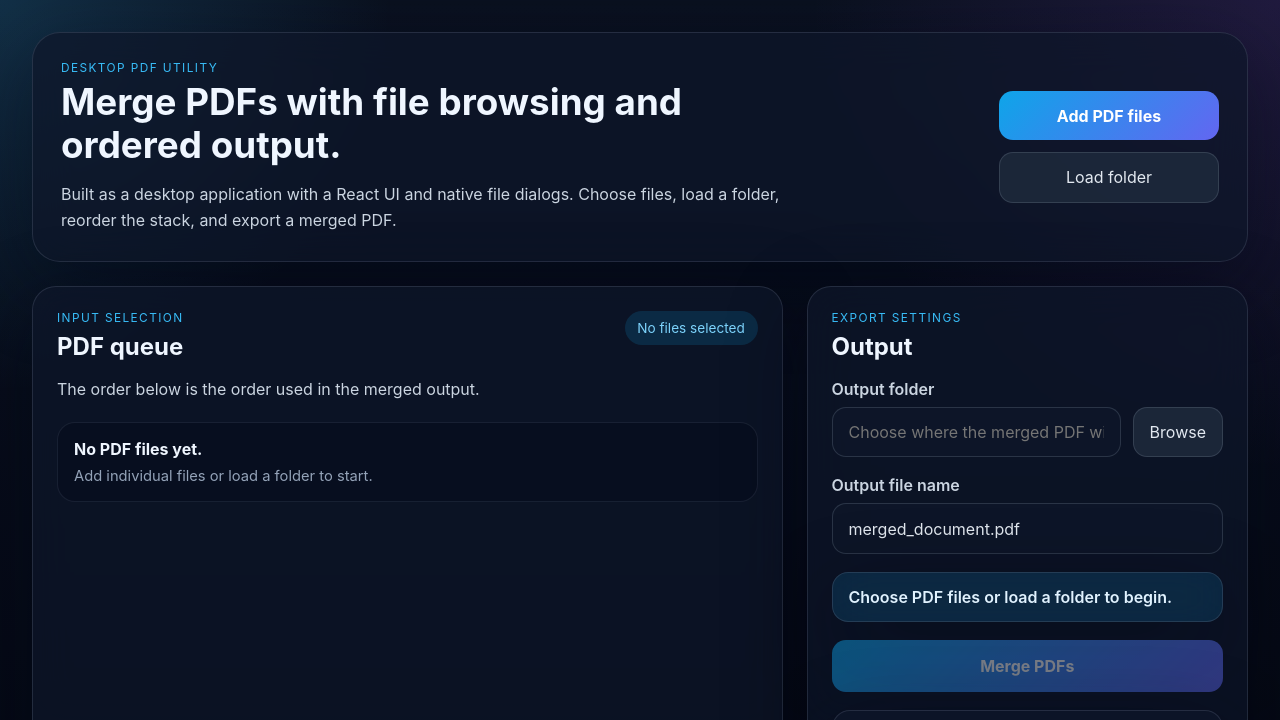
Scenario: App › merges the queued files and shows the success message
Click the button "Add PDF files" at (1109, 116), box [999,91,1219,140]
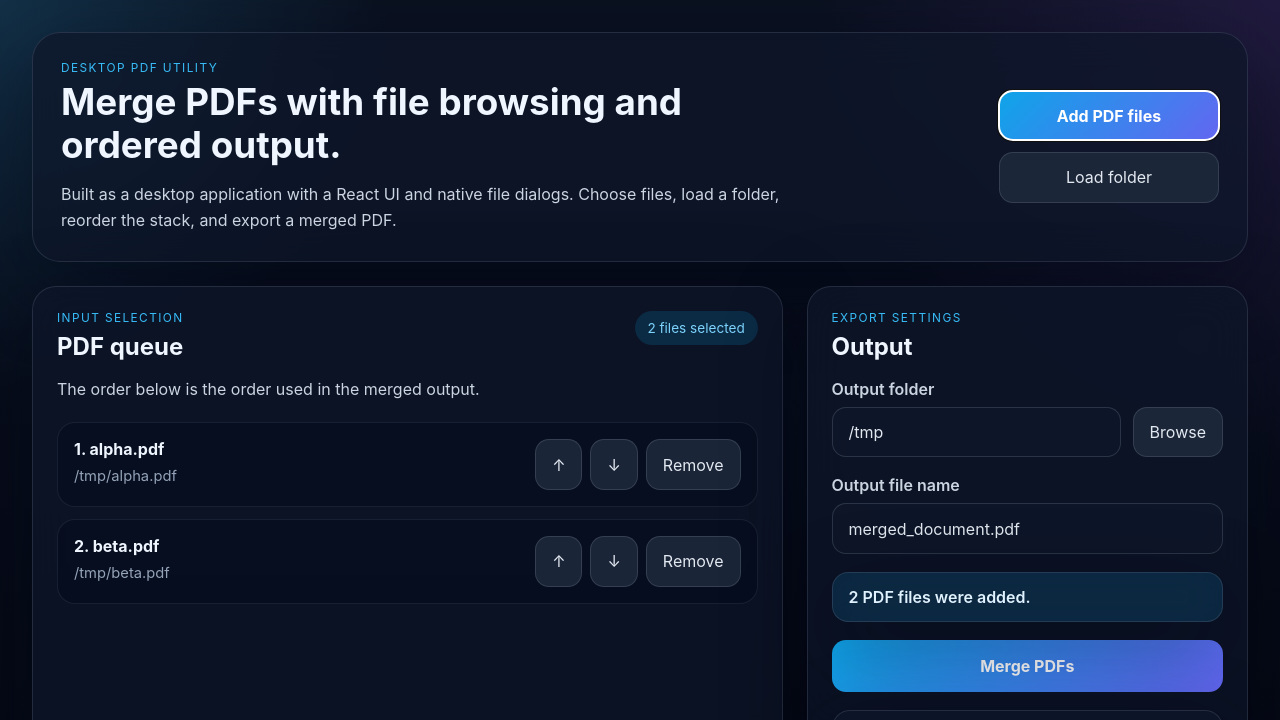
Type "final-report.pdf" into the field labelled "Output file name" at (1027, 529), box [832,503,1223,554]
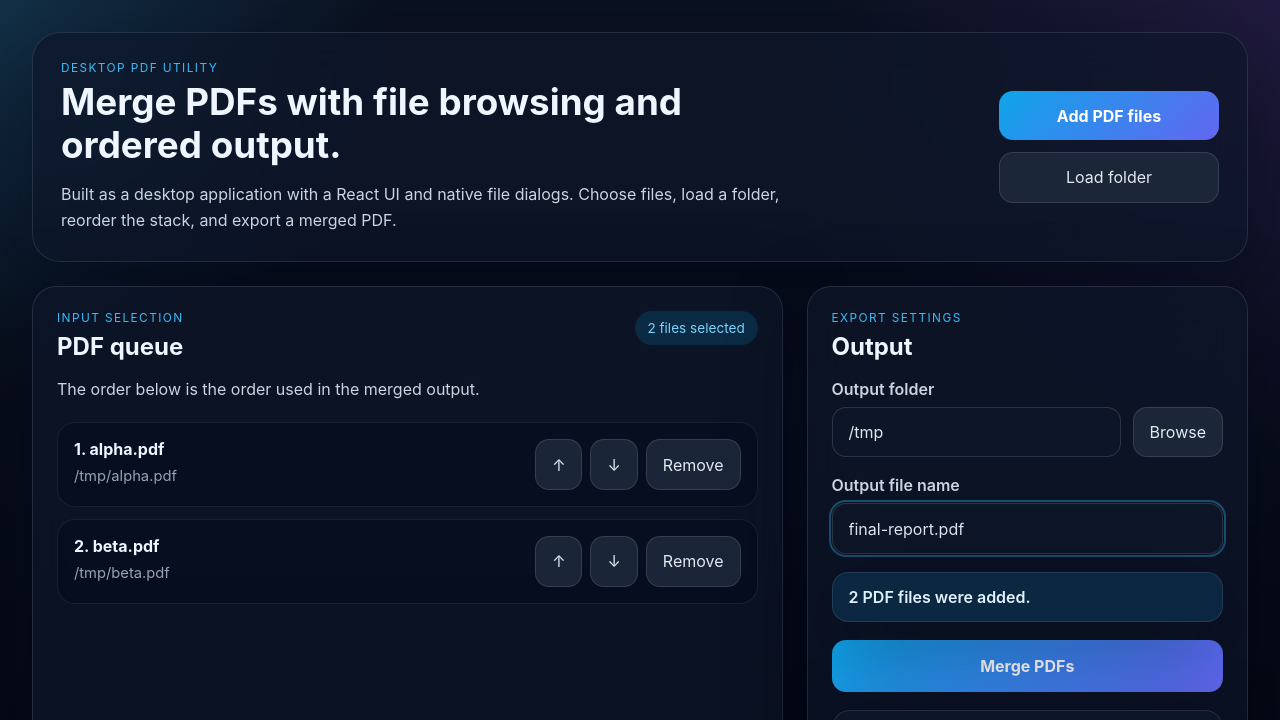
Click the button "Merge PDFs" at (1027, 666), box [832,640,1223,692]
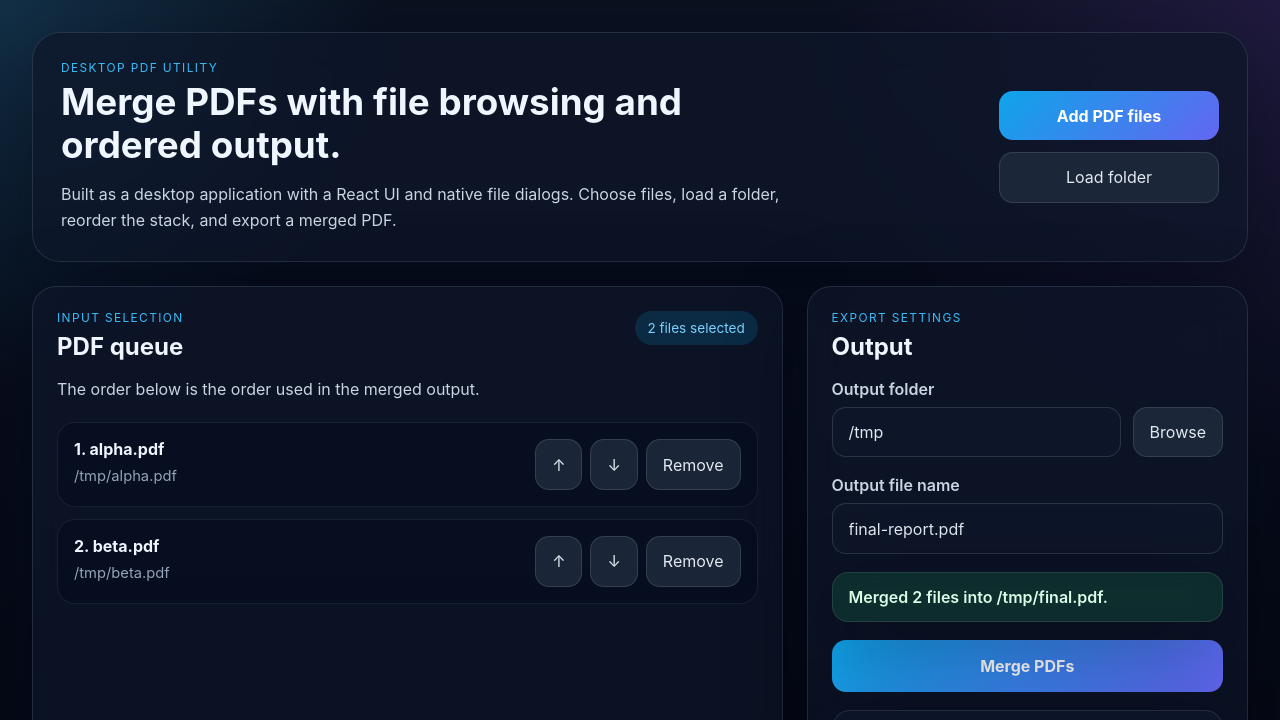
Expected: the text "Merged 2 files into /tmp/final.pdf." is shown, [832,572,1223,622]
